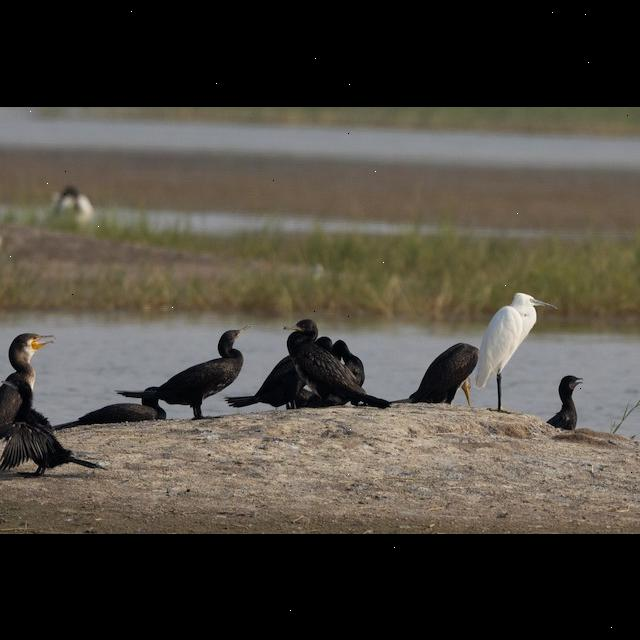cormorant: (118, 318, 252, 419), (281, 317, 395, 408), (0, 326, 60, 434), (543, 371, 587, 434)
egret: (474, 285, 562, 403)
